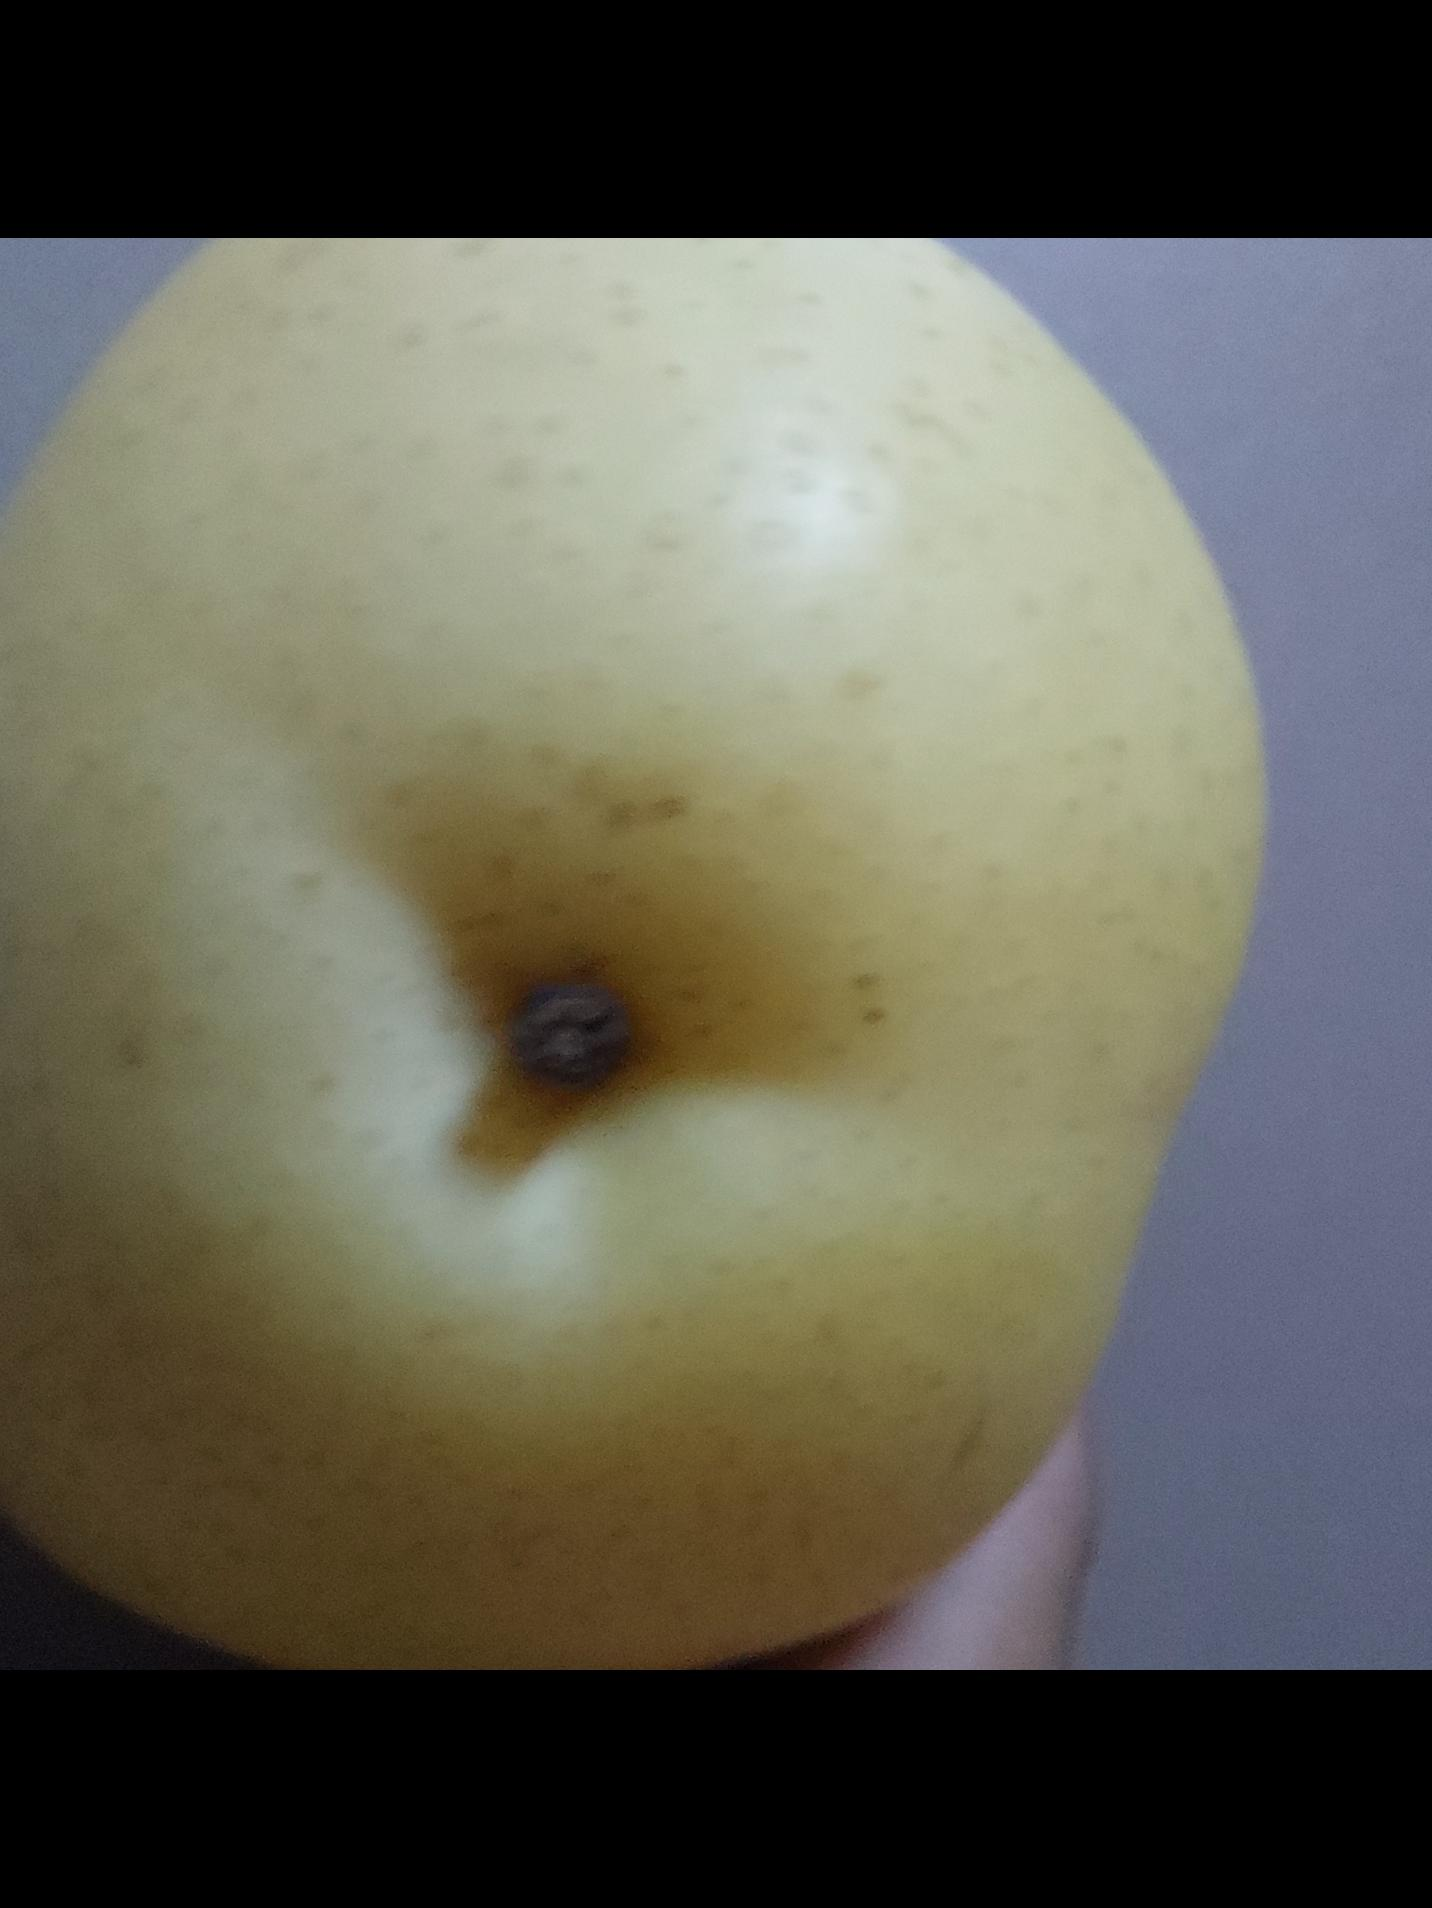Good Pear: (0, 238, 1272, 1670)
